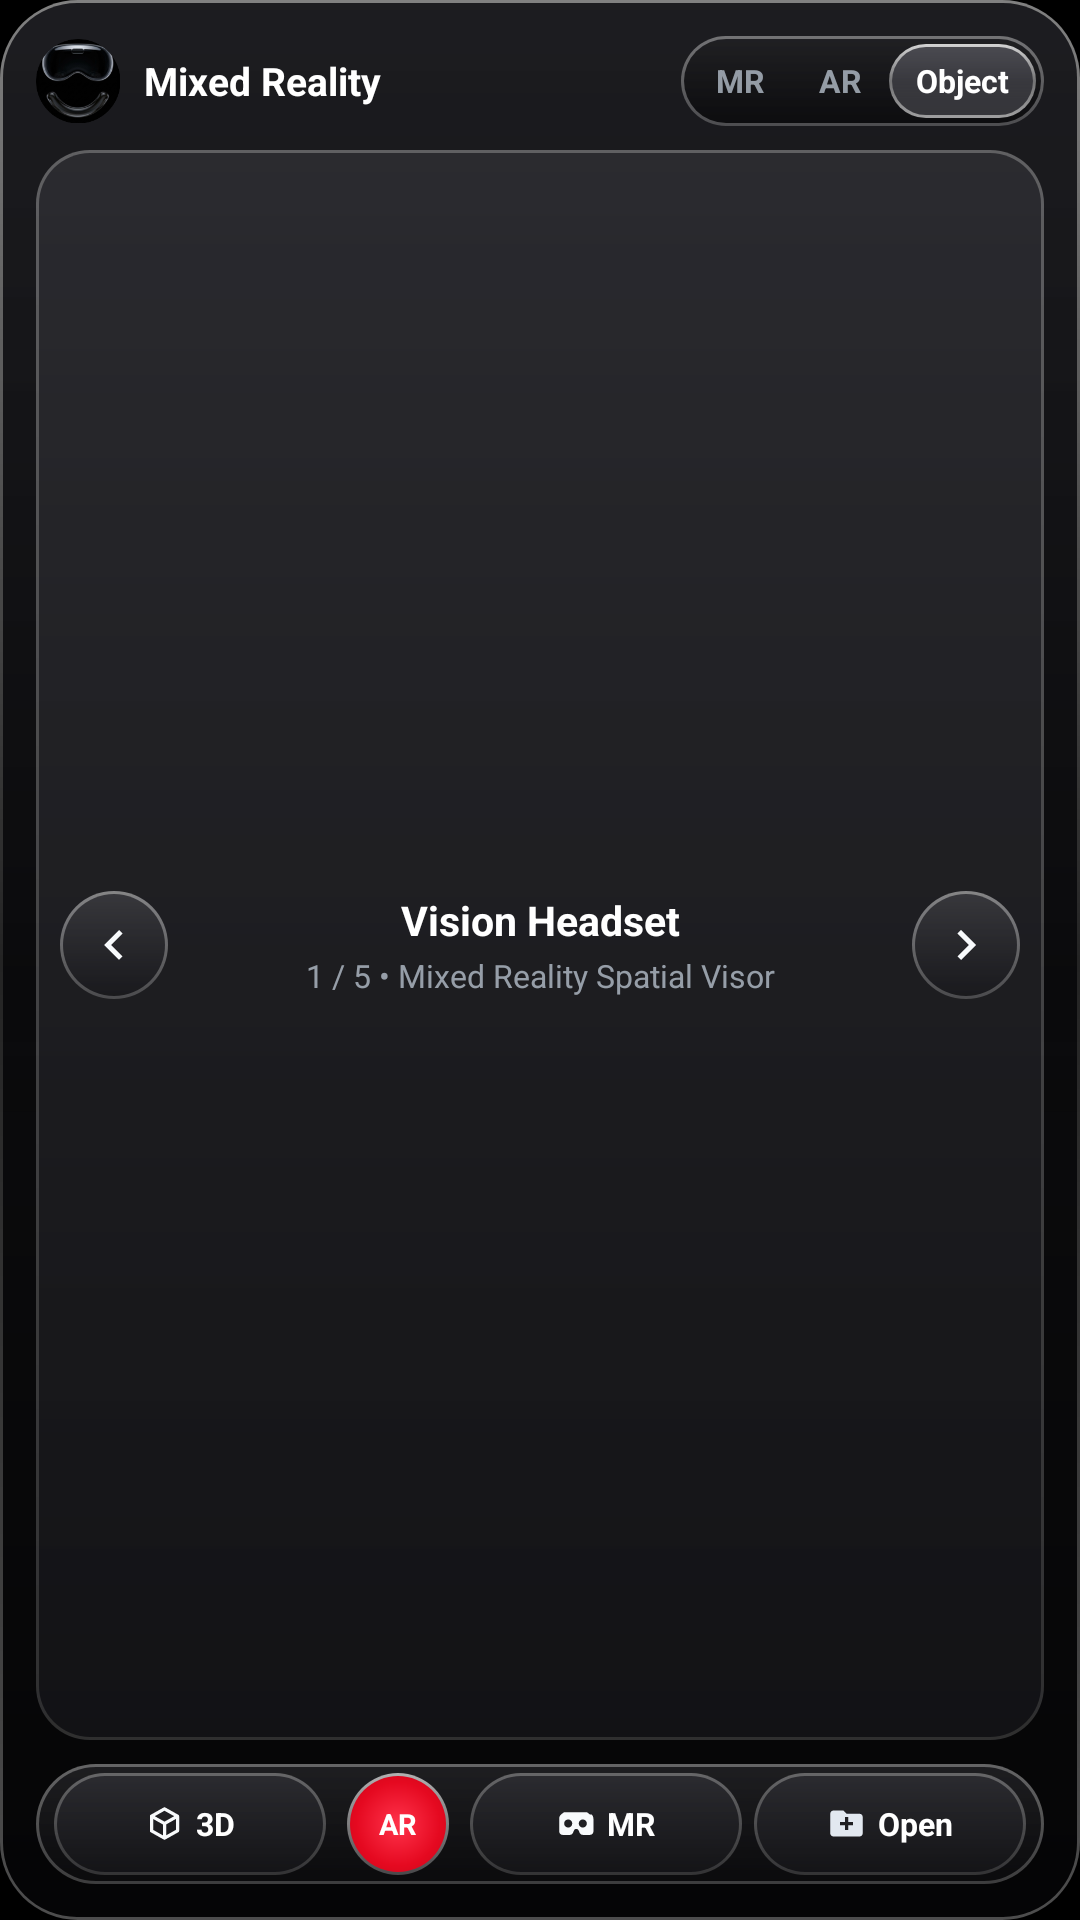

Screen size 1080px x 1920px. Icon name, then its box in pixels as {"left": x1, "top": y1, "right": x2, "bottom": y2}:
Next 3D model preset: {"left": 912, "top": 891, "right": 1020, "bottom": 999}
Previous 3D model preset: {"left": 60, "top": 891, "right": 168, "bottom": 999}
